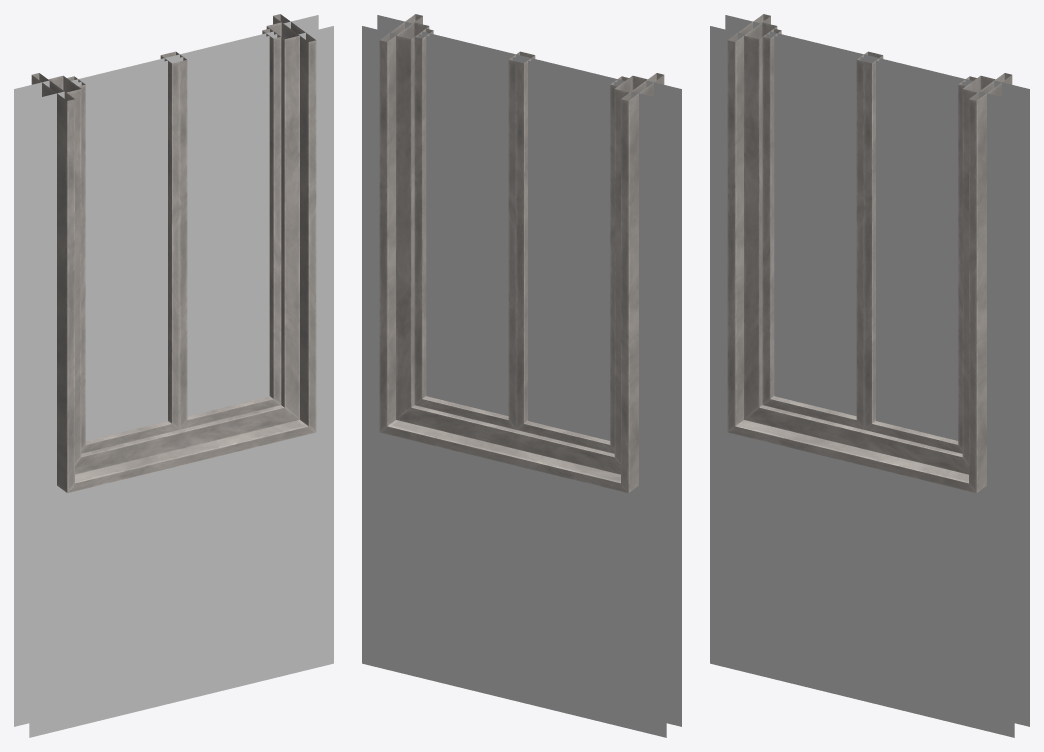
The model's file is Wall_Window_E_F.fbx.
3 views of the same model, side by side, from view 1: azimuth 30°, elevation 25°; view 2: azimuth 150°, elevation 25°; view 3: azimuth 330°, elevation 25° (orthographic).
Visible parts, largest first — view 1: Wall_Window_E_F; view 2: Wall_Window_E_F; view 3: Wall_Window_E_F.
Part boxes in pixels (<box>): Wall_Window_E_F: <box>14,14,333,737</box>; Wall_Window_E_F: <box>362,14,681,737</box>; Wall_Window_E_F: <box>710,14,1029,737</box>.
Bounding box in the file's own units: 3 × 0.6115 × 6.
